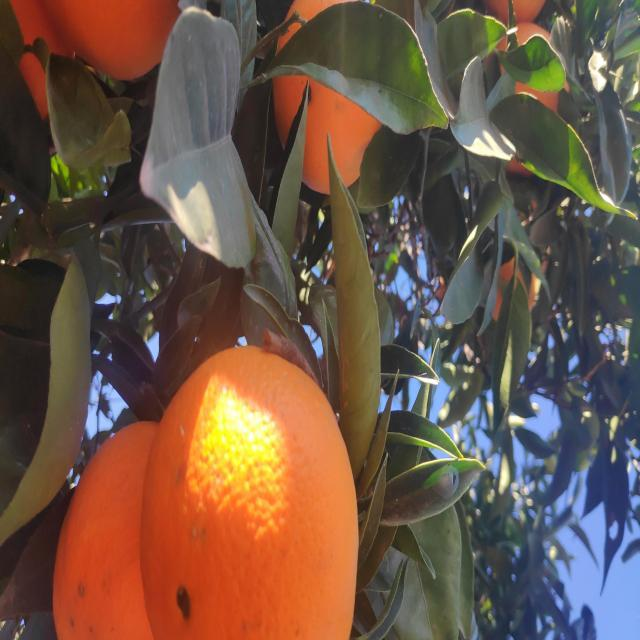Jeruk Sudah Matang: (352, 280, 640, 498), (420, 452, 640, 589), (0, 251, 198, 373), (0, 447, 90, 604), (0, 573, 124, 619)
